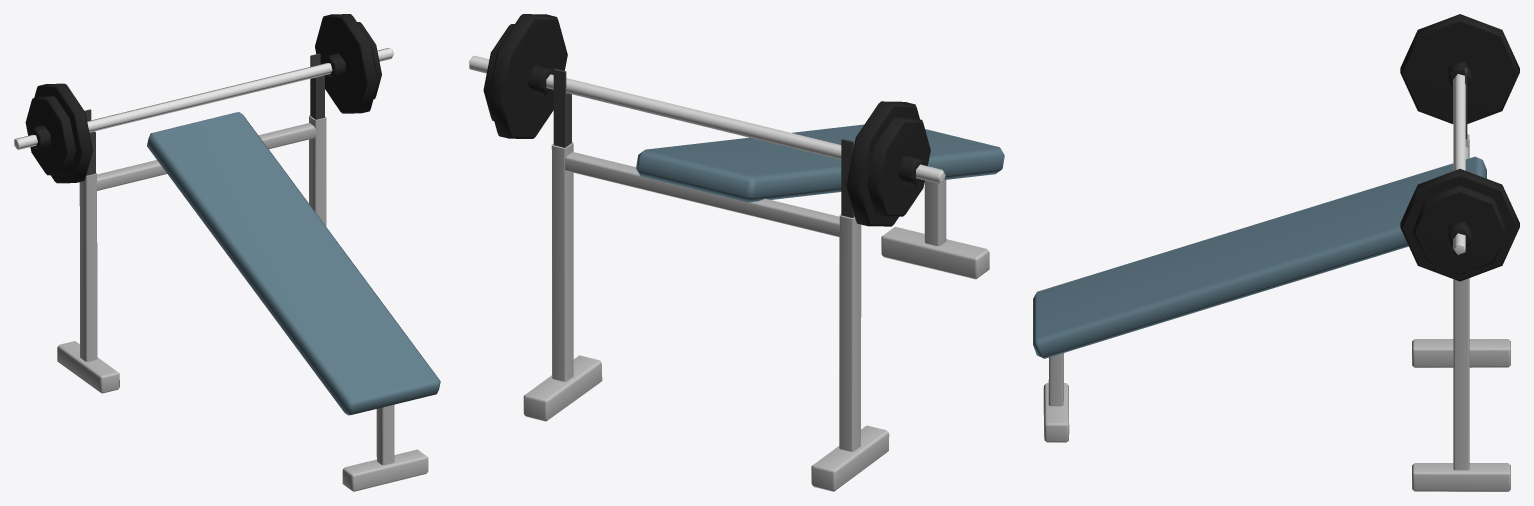
Rendered from training_020.fbx.
3 renders of one model, left to right at view 1: azimuth 30°, elevation 25°; view 2: azimuth 150°, elevation 25°; view 3: azimuth 270°, elevation 25°, orthographic. The views are drawn at different scales.
Parts seen in each view (by area): view 1: training_020; view 2: training_020; view 3: training_020.
Boxes of the visible parts, x1=… form: training_020: x1=14, y1=14, x2=440, y2=491; training_020: x1=469, y1=14, x2=1004, y2=491; training_020: x1=1033, y1=14, x2=1519, y2=491.
Bounding box in the file's own units: 190 × 192 × 144.
